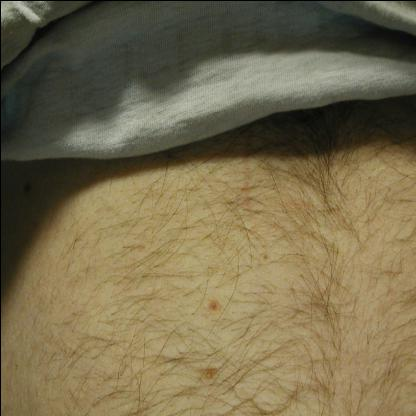Fire ant: (184, 23, 224, 78), (170, 246, 206, 288), (96, 194, 124, 226), (87, 254, 114, 284), (38, 220, 52, 244)
